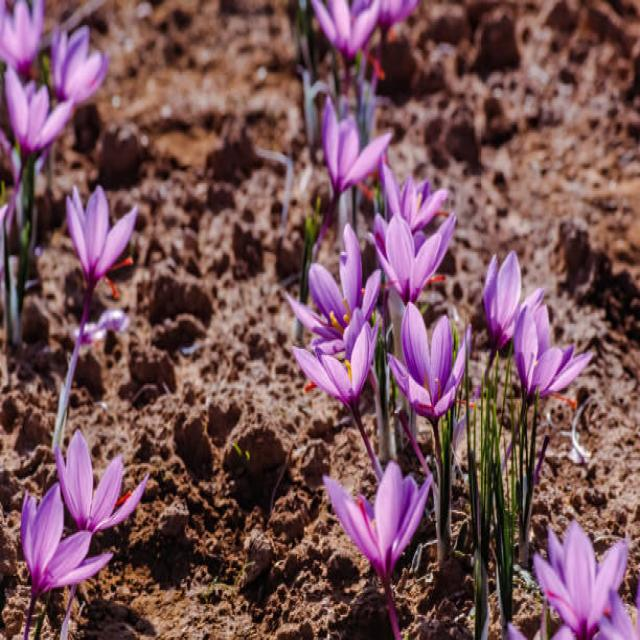saffron open: (324, 462, 431, 640), (293, 322, 382, 483), (21, 483, 112, 640), (287, 224, 381, 359), (390, 301, 470, 455), (534, 520, 628, 640), (57, 430, 148, 533), (66, 185, 138, 288), (376, 213, 455, 305), (515, 305, 592, 397), (322, 97, 392, 196), (5, 67, 74, 155), (484, 251, 521, 367), (52, 26, 109, 101), (312, 0, 380, 60)
